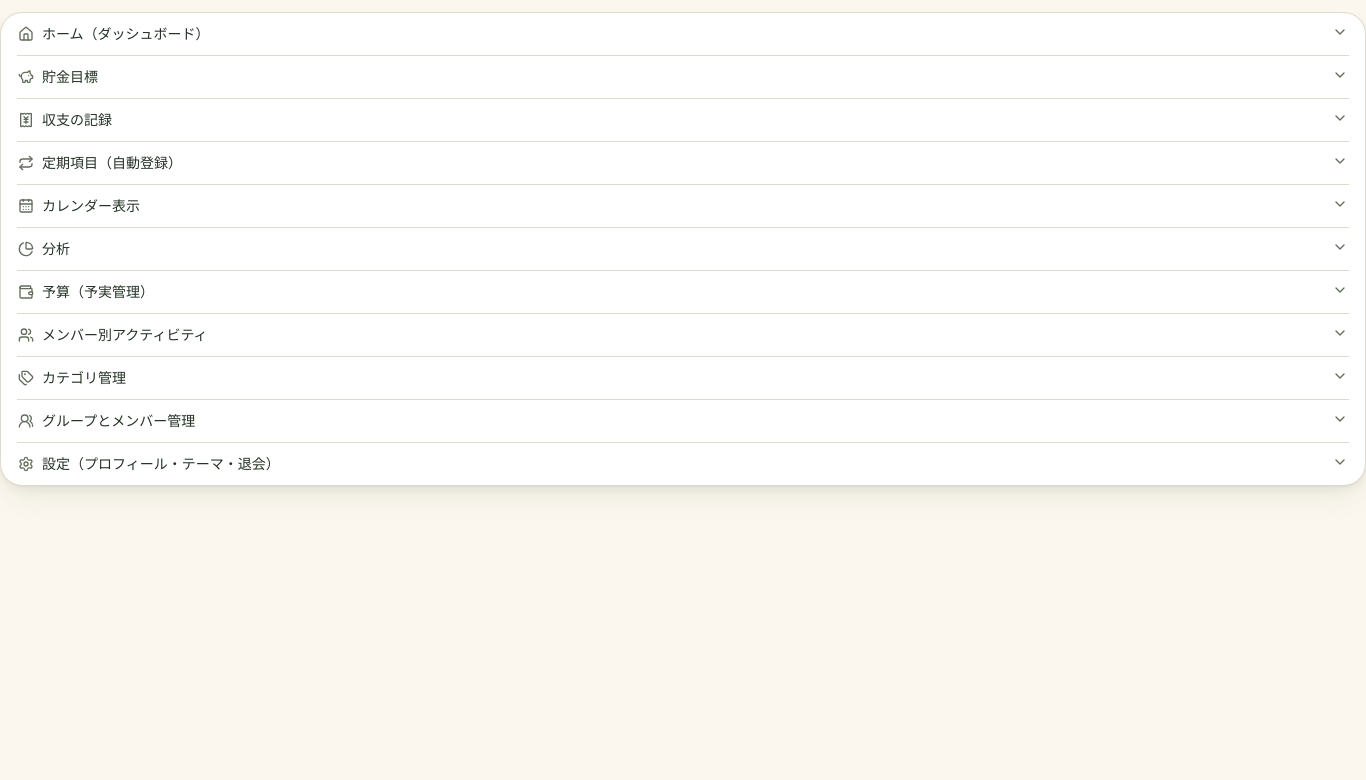
Test: HelpAccordion › トリガーをクリックすると操作手順が開く
Step 1. Click the button "ホーム（ダッシュボード）" → (126, 34), box [17, 13, 1349, 55]
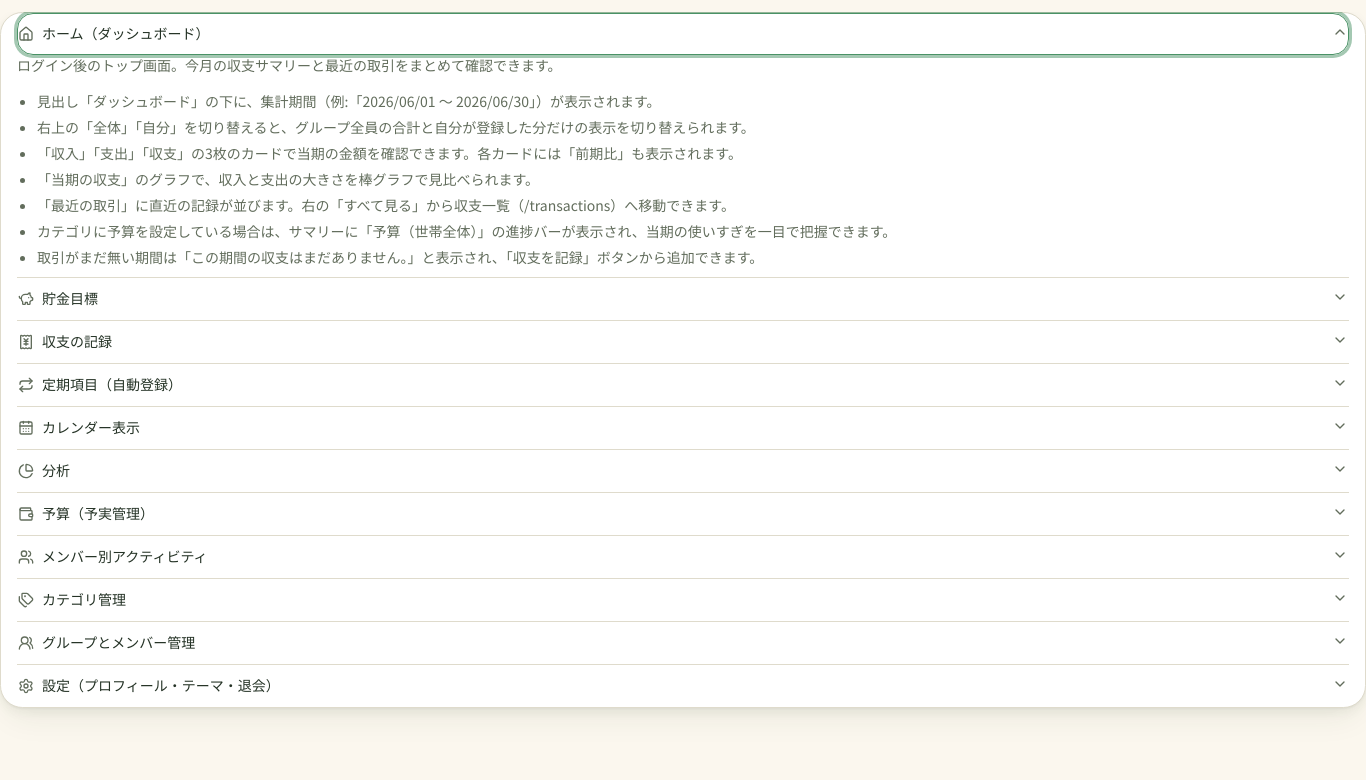
Expected: the list item "見出し「ダッシュボード」の下に、集計期間（例:「2026/06/01 〜 2026/06/30」）が表示されます。" is shown, [37, 91, 661, 111]
